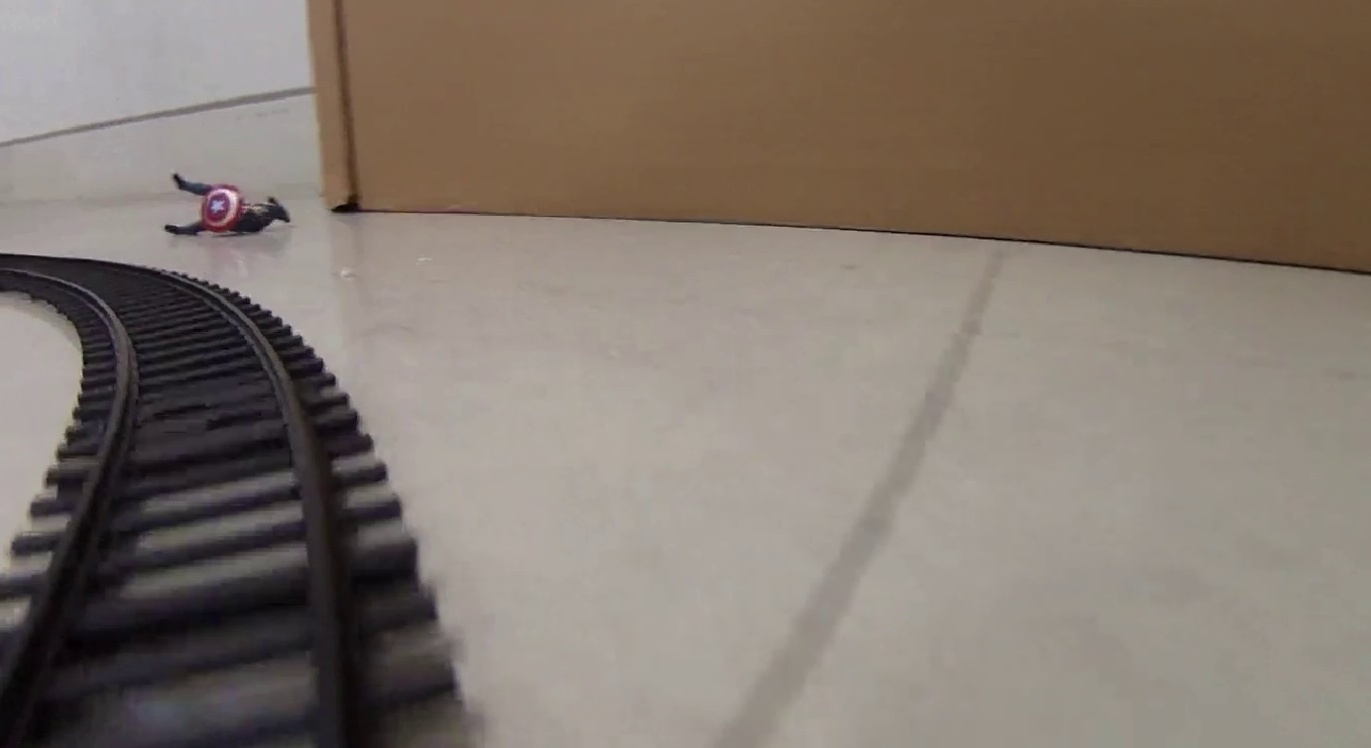people: (164, 171, 291, 238)
